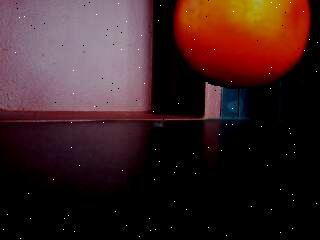Orange: (168, 0, 308, 88)
